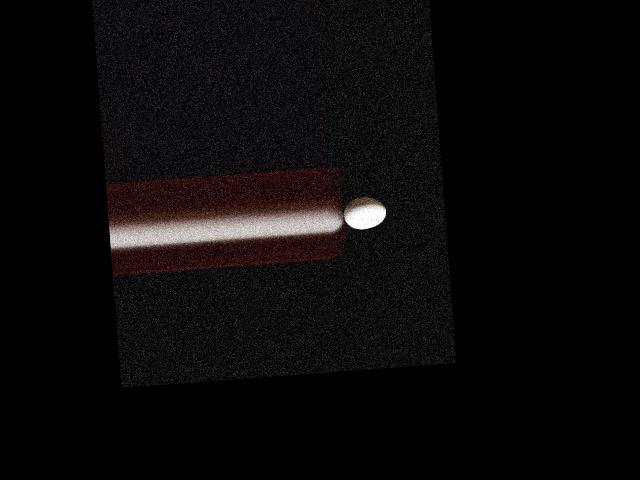egg: (342, 196, 387, 231)
